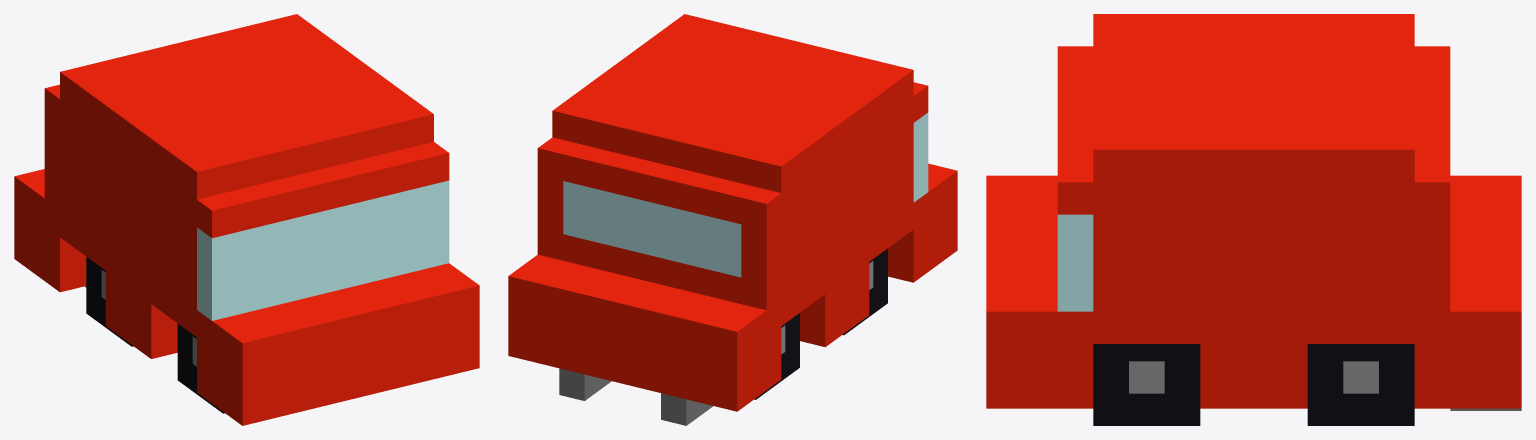
The model's file is boxelcar.obj.
3 views of the same model, side by side, from view 1: azimuth 30°, elevation 25°; view 2: azimuth 150°, elevation 25°; view 3: azimuth 270°, elevation 25° (orthographic). The views are drawn at different scales.
Visible parts, largest first — view 1: wooden_box; view 2: wooden_box; view 3: wooden_box.
Part boxes in pixels (bbox=[...]): wooden_box: bbox=[14, 14, 479, 425]; wooden_box: bbox=[508, 14, 957, 425]; wooden_box: bbox=[986, 14, 1521, 425].
Bounding box in the file's own units: 0.9 × 0.9 × 1.5.
